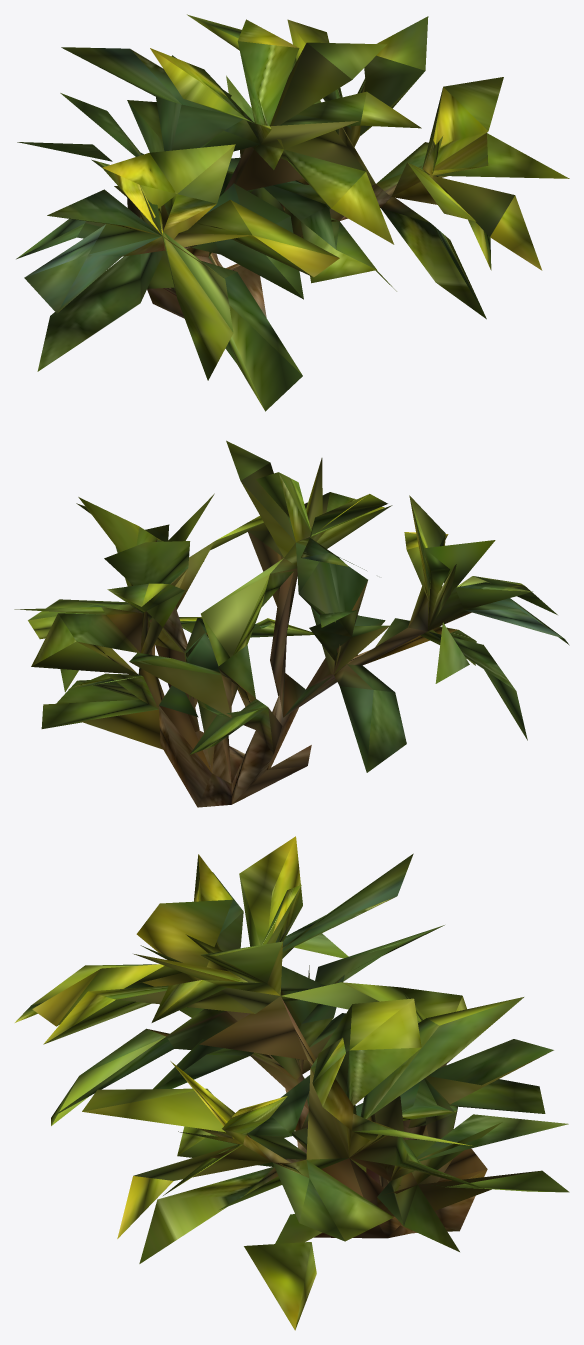
The model's file is bush.glb.
The picture shows the model from 3 angles, top to bottom: view 1: azimuth 30°, elevation 25°; view 2: azimuth 150°, elevation 25°; view 3: azimuth 270°, elevation 25°; orthographic projection. The views are drawn at different scales.
Parts seen in each view (by area): view 1: TripoBush_Mesh; view 2: TripoBush_Mesh; view 3: TripoBush_Mesh.
Part boxes in pixels (<box>): TripoBush_Mesh: <box>16,14,569,411</box>; TripoBush_Mesh: <box>14,440,569,807</box>; TripoBush_Mesh: <box>15,836,569,1330</box>.
Bounding box in the file's own units: 1.5 × 0.9 × 1.3.
Materials: 1 (1 with a texture image).
